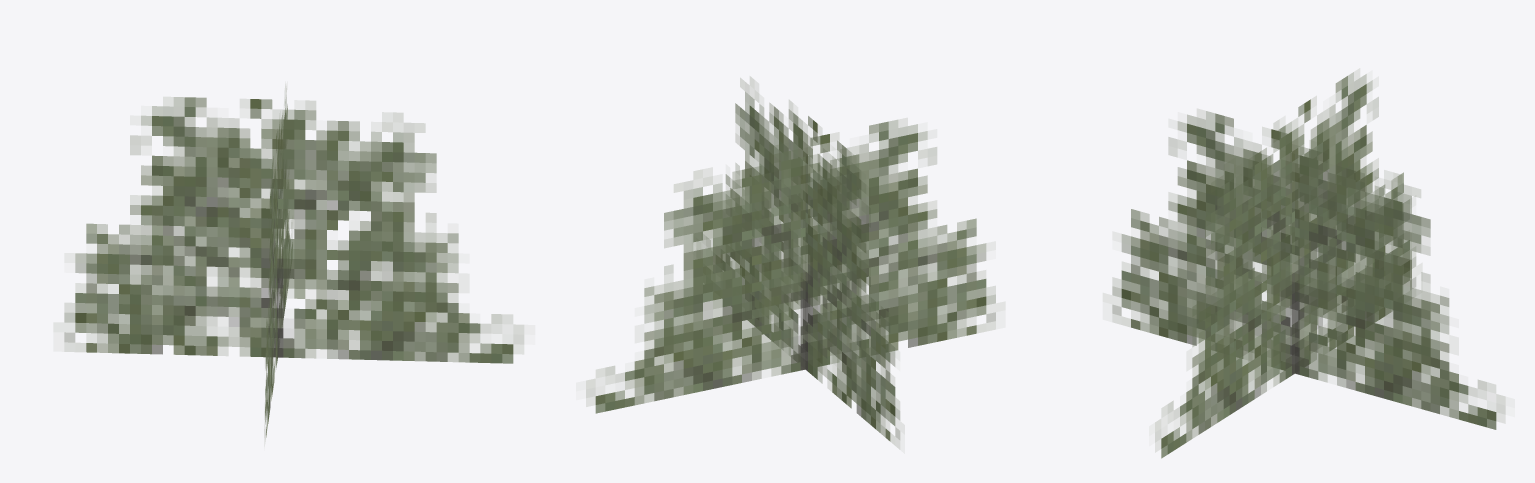
Rendered from tree-shrub.014_lev3.glb.
3 renders of one model, left to right at view 1: azimuth 30°, elevation 25°; view 2: azimuth 150°, elevation 25°; view 3: azimuth 270°, elevation 25°, orthographic. The views are drawn at different scales.
Visible parts, largest first — view 1: tree-shrub.014_lev3; view 2: tree-shrub.014_lev3; view 3: tree-shrub.014_lev3.
Boxes of the visible parts, x1,y1,x2,y2 form: tree-shrub.014_lev3: (64, 86, 523, 439); tree-shrub.014_lev3: (586, 77, 995, 448); tree-shrub.014_lev3: (1112, 69, 1505, 458).
Bounding box in the file's own units: 9.98 × 6.45 × 9.98.
Materials: 1 (1 with a texture image).
